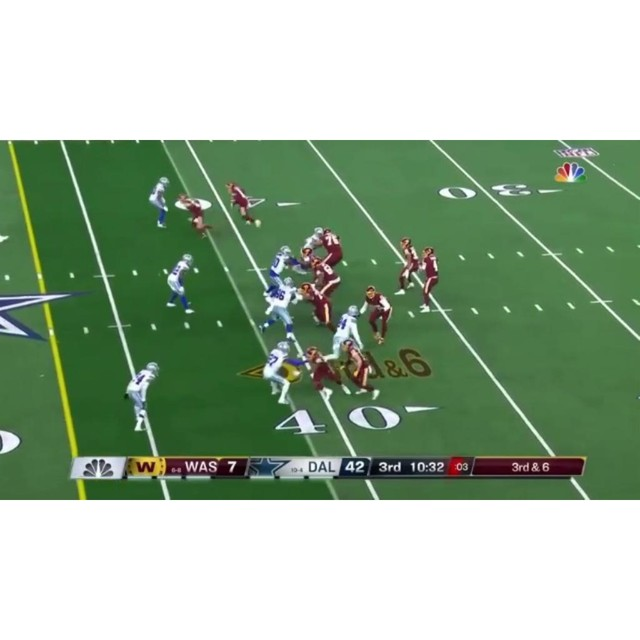american-football-player: (258, 276, 300, 339), (123, 362, 160, 433), (341, 338, 380, 400), (261, 340, 298, 405), (304, 346, 348, 400), (325, 305, 362, 362), (262, 245, 301, 298), (165, 254, 199, 314), (358, 286, 392, 345), (176, 194, 216, 239), (299, 281, 334, 330), (226, 181, 262, 227), (396, 237, 422, 294), (418, 247, 441, 311), (312, 256, 342, 297), (148, 176, 171, 228), (320, 228, 345, 268), (300, 227, 324, 262)
